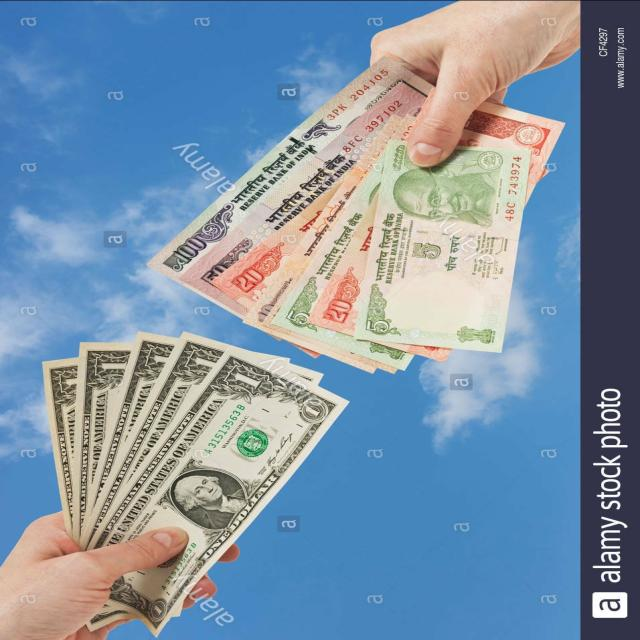5IndianRupees: (356, 114, 545, 328)
